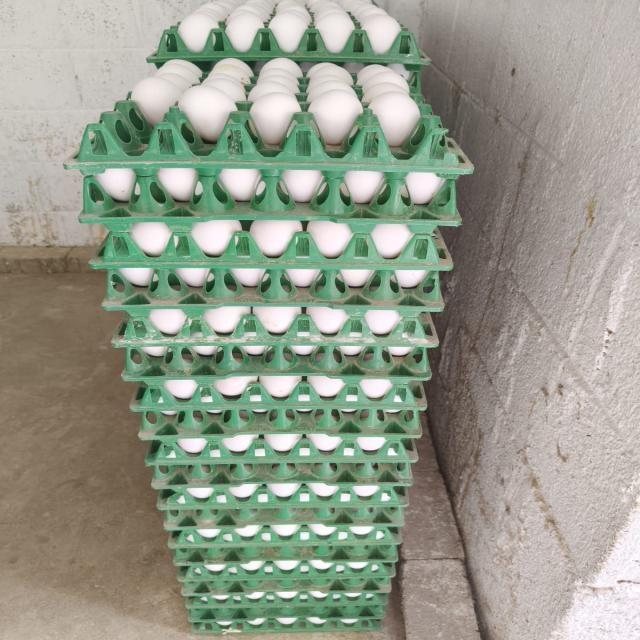egg_tray: (81, 168, 459, 288), (81, 168, 459, 287), (66, 76, 473, 174), (79, 166, 460, 258), (92, 219, 451, 310), (100, 59, 440, 151), (65, 100, 472, 175), (132, 376, 425, 466), (134, 376, 425, 465), (90, 220, 452, 288), (112, 302, 437, 374), (178, 61, 431, 146), (132, 58, 423, 125), (148, 0, 429, 65), (176, 544, 397, 619), (153, 460, 411, 524), (122, 344, 431, 397), (102, 267, 443, 315), (111, 306, 437, 356), (139, 410, 421, 465), (169, 0, 420, 59), (175, 543, 397, 608), (174, 544, 397, 606), (179, 542, 397, 603), (152, 462, 412, 510), (130, 376, 426, 415), (183, 579, 390, 630), (164, 506, 404, 546), (153, 461, 412, 498), (146, 430, 417, 465), (139, 409, 421, 442), (146, 432, 417, 465), (229, 59, 423, 105), (185, 578, 388, 620), (173, 544, 398, 581), (174, 545, 397, 582), (187, 584, 384, 625), (164, 505, 404, 538), (182, 575, 390, 613), (156, 479, 410, 510), (186, 580, 387, 619), (164, 504, 403, 536), (187, 583, 383, 622), (183, 576, 389, 613), (187, 584, 384, 622), (184, 578, 389, 614), (177, 550, 396, 582), (183, 576, 390, 607), (177, 553, 395, 582), (168, 523, 403, 548), (189, 605, 384, 634), (178, 559, 395, 585), (189, 604, 384, 632), (177, 559, 395, 584), (249, 580, 383, 617), (189, 598, 384, 623), (189, 611, 383, 635), (191, 611, 381, 634), (190, 616, 382, 634), (191, 616, 382, 634), (190, 617, 382, 634), (131, 62, 174, 127), (202, 581, 246, 620), (174, 543, 269, 558), (201, 59, 237, 88), (85, 176, 109, 211), (228, 170, 259, 189), (143, 236, 170, 256), (156, 32, 176, 54), (154, 62, 175, 78), (384, 71, 405, 83), (371, 102, 385, 116), (187, 600, 200, 614), (289, 595, 306, 605), (172, 361, 188, 370), (322, 127, 334, 138), (241, 278, 257, 285), (102, 170, 124, 175), (274, 100, 285, 110), (202, 127, 210, 139), (255, 598, 273, 603), (252, 78, 259, 90), (210, 614, 222, 620), (303, 80, 311, 89), (234, 599, 244, 606), (209, 599, 219, 606), (380, 247, 390, 254), (280, 590, 296, 594), (175, 362, 183, 370), (188, 599, 197, 606), (206, 598, 215, 605), (351, 591, 372, 594), (253, 590, 268, 594), (289, 101, 295, 111), (377, 596, 385, 603), (264, 248, 271, 256), (389, 140, 398, 146), (381, 254, 394, 258), (188, 601, 198, 606), (214, 107, 221, 114), (337, 547, 349, 551), (334, 118, 342, 124), (254, 590, 266, 594), (191, 83, 200, 88), (219, 537, 228, 542), (310, 106, 317, 112), (165, 385, 172, 391), (192, 549, 206, 552), (351, 369, 359, 374), (380, 99, 388, 104), (190, 550, 199, 554), (326, 140, 335, 144), (410, 106, 415, 113), (326, 140, 334, 144), (300, 547, 308, 551), (173, 476, 181, 480), (243, 193, 251, 197), (298, 103, 306, 107), (233, 139, 238, 145), (141, 131, 146, 137), (253, 581, 260, 585), (310, 618, 317, 622), (132, 195, 136, 202), (295, 84, 302, 88), (378, 545, 387, 548), (229, 549, 242, 551), (322, 611, 327, 616), (331, 149, 336, 154), (392, 125, 397, 130), (151, 348, 157, 352), (261, 556, 269, 559), (97, 175, 103, 179), (351, 370, 357, 374), (421, 60, 427, 64), (349, 360, 356, 363), (330, 579, 335, 583), (333, 596, 338, 600), (361, 609, 365, 614), (310, 585, 314, 590), (280, 530, 285, 534), (187, 603, 191, 608), (190, 550, 199, 552), (147, 118, 151, 122), (319, 100, 323, 104), (191, 550, 199, 552), (336, 613, 340, 617), (350, 591, 358, 593), (354, 542, 362, 544), (230, 550, 235, 553), (320, 112, 323, 117), (230, 548, 235, 551), (222, 170, 227, 173), (301, 146, 304, 151), (441, 130, 446, 133), (350, 591, 365, 592), (244, 103, 249, 106), (224, 111, 227, 116), (158, 85, 163, 88), (350, 360, 355, 363), (273, 625, 278, 628), (192, 630, 198, 632), (381, 113, 385, 116), (382, 364, 386, 367), (342, 563, 345, 567), (231, 549, 235, 552), (361, 611, 365, 614), (339, 535, 343, 538), (253, 194, 257, 197), (270, 150, 273, 154), (257, 590, 261, 593), (269, 136, 273, 139), (230, 548, 234, 551), (281, 602, 286, 604), (149, 300, 152, 303), (148, 115, 151, 118), (404, 101, 407, 104), (343, 563, 346, 566), (138, 127, 141, 130), (207, 119, 210, 122), (331, 94, 334, 97), (189, 367, 193, 369), (230, 594, 232, 598), (269, 99, 273, 101), (301, 546, 305, 548), (141, 103, 143, 106), (391, 348, 394, 350), (385, 579, 387, 582), (292, 594, 295, 596), (367, 585, 373, 586), (197, 442, 200, 444), (348, 586, 351, 588), (180, 225, 183, 227), (283, 247, 285, 250), (257, 226, 259, 229), (139, 170, 142, 172), (167, 141, 170, 143), (306, 587, 309, 589), (143, 132, 146, 134), (382, 60, 385, 62), (336, 79, 339, 81), (178, 69, 181, 71), (382, 364, 385, 366), (337, 547, 342, 548), (125, 170, 130, 171), (190, 615, 191, 620), (259, 500, 260, 504), (370, 396, 374, 397), (139, 361, 141, 363), (188, 357, 192, 358), (220, 598, 222, 600), (143, 132, 145, 134), (367, 447, 369, 449), (370, 546, 372, 548), (338, 547, 342, 548), (285, 172, 287, 174), (369, 584, 371, 586), (171, 224, 173, 226), (294, 230, 296, 232), (223, 622, 227, 623), (301, 547, 305, 548), (201, 601, 203, 603), (369, 592, 373, 593), (311, 589, 315, 590), (274, 114, 278, 115), (265, 129, 267, 131), (344, 547, 348, 548), (247, 78, 249, 80), (235, 61, 237, 63), (332, 626, 334, 628), (165, 525, 166, 528), (132, 92, 133, 95), (297, 311, 300, 312), (276, 556, 279, 557), (254, 620, 257, 621), (283, 613, 286, 614), (265, 592, 268, 593), (164, 87, 167, 88), (346, 58, 349, 59), (196, 293, 197, 295), (330, 135, 331, 137), (322, 131, 323, 133), (399, 114, 401, 115), (247, 272, 249, 273), (420, 187, 422, 188), (232, 176, 234, 177), (143, 238, 145, 239), (292, 597, 293, 599), (364, 578, 366, 579), (243, 462, 245, 463), (212, 140, 214, 141), (190, 110, 192, 111), (240, 104, 242, 105), (234, 67, 236, 68), (245, 66, 247, 67), (286, 586, 287, 588), (314, 365, 315, 366), (389, 360, 390, 361), (138, 127, 139, 128), (256, 558, 257, 559), (259, 145, 260, 146), (266, 558, 267, 559), (309, 89, 310, 90), (354, 543, 357, 543), (373, 576, 375, 576), (393, 145, 397, 145), (163, 114, 163, 115), (358, 110, 358, 110), (356, 108, 357, 108), (399, 103, 402, 103), (233, 394, 237, 394), (223, 394, 231, 394), (305, 350, 306, 350), (160, 348, 162, 348), (347, 552, 348, 552), (172, 356, 172, 357), (378, 351, 378, 353), (284, 599, 286, 599), (325, 556, 325, 557), (254, 310, 254, 312), (292, 543, 293, 543), (141, 194, 141, 194), (107, 176, 108, 176), (259, 245, 259, 247), (208, 599, 209, 599), (254, 592, 260, 592), (270, 594, 271, 594), (270, 143, 270, 143), (342, 599, 344, 599), (312, 590, 315, 590), (238, 525, 240, 525), (267, 501, 268, 501), (219, 163, 219, 166), (202, 550, 205, 550), (242, 90, 243, 90), (374, 85, 374, 86), (382, 83, 387, 83), (309, 72, 310, 72), (342, 70, 343, 70), (296, 603, 297, 603), (210, 58, 210, 59)
